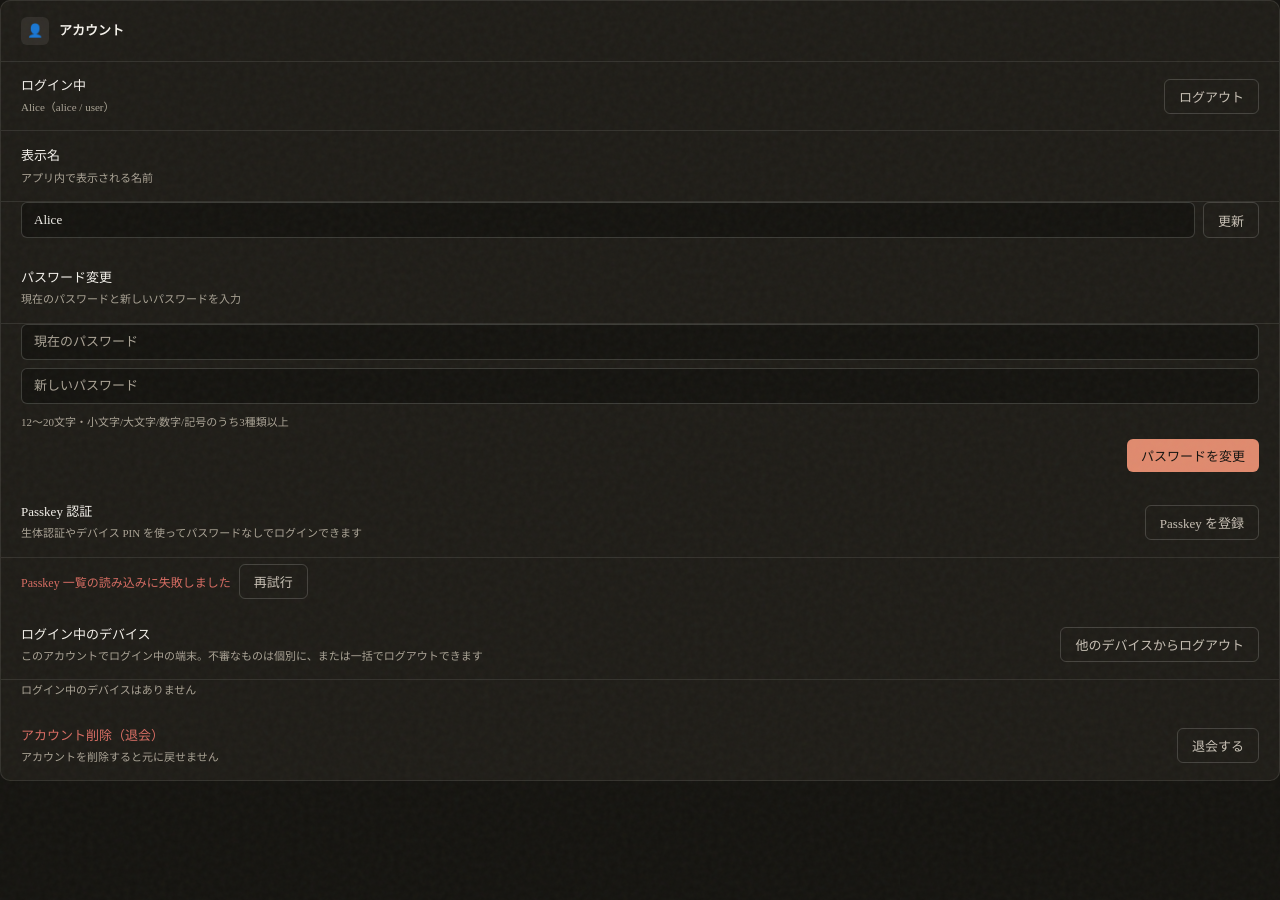
AccountSection — Passkey 一覧の読み込み失敗（issue #164） › 再試行ボタンをクリックすると getPasskeyCredentials を再度呼び、成功すれば一覧を表示する
This screenshot has width=1280, height=900.
What coordinates should you click on to do the following:
click the button with aria-label "passkey 一覧を再試行"
I would click on:
 (273, 581)
Its box is [239,564,308,599].
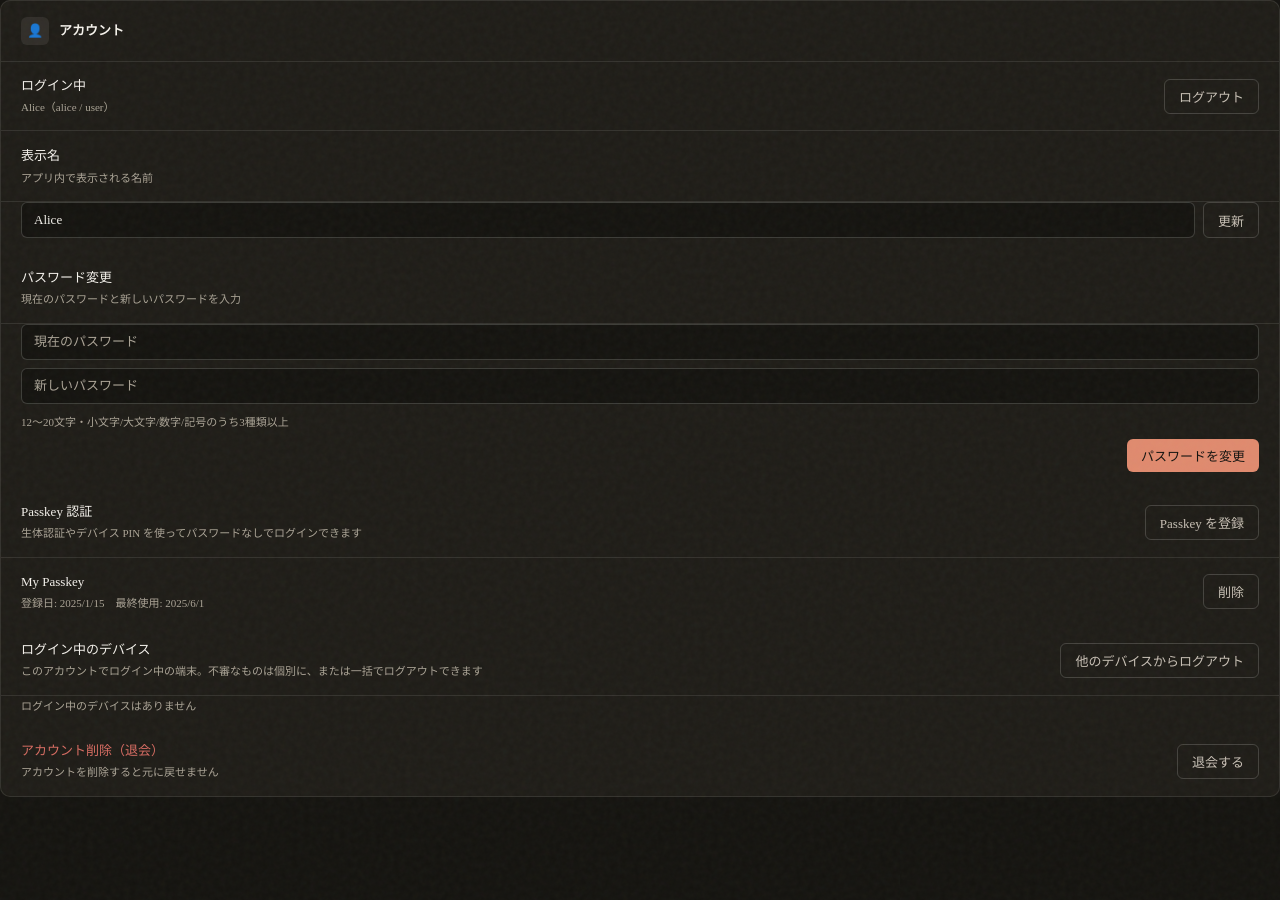
Result: the text "My Passkey" is shown at [21,574,84,589]
Result: the text "Passkey 一覧の読み込みに失敗しました" is gone
